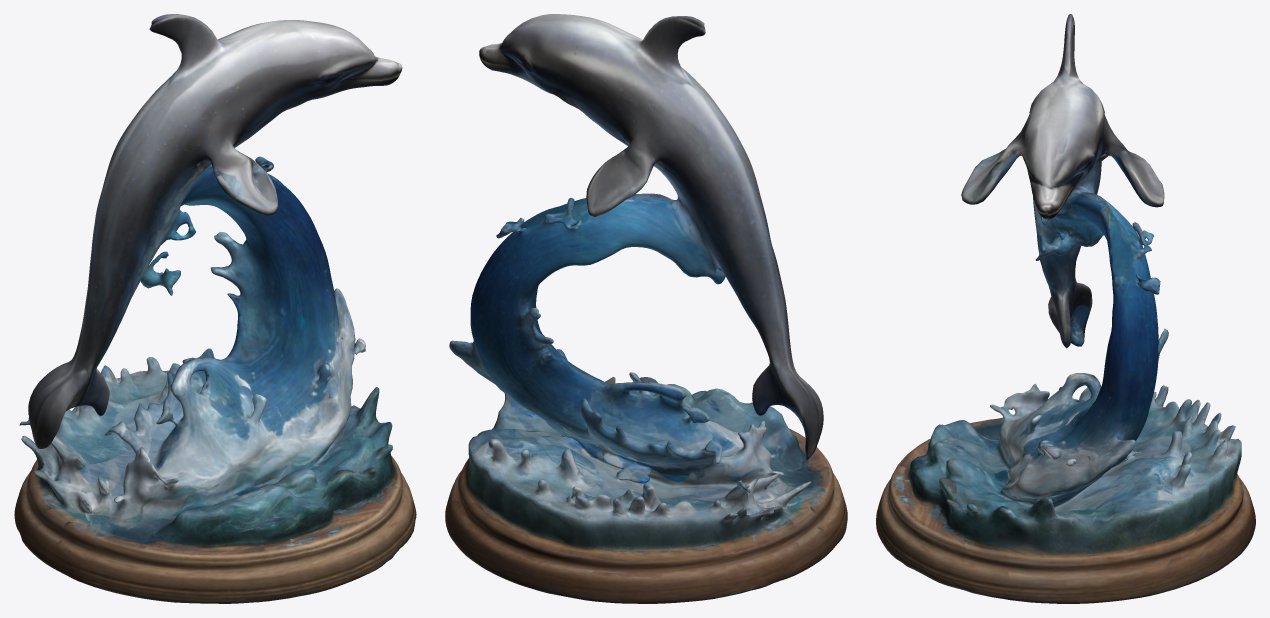
Rendered from A_sleek_gray_and_whit_1114052125_refine.fbx.
3 views of the same model, side by side, from view 1: azimuth 30°, elevation 25°; view 2: azimuth 150°, elevation 25°; view 3: azimuth 270°, elevation 25° (orthographic). The views are drawn at different scales.
Visible parts, largest first — view 1: Mesh1_Mesh1.007; view 2: Mesh1_Mesh1.007; view 3: Mesh1_Mesh1.007.
Boxes of the visible parts, box(x1,y1,x2,y2) form: Mesh1_Mesh1.007: box(14, 14, 416, 603); Mesh1_Mesh1.007: box(445, 14, 847, 603); Mesh1_Mesh1.007: box(876, 14, 1255, 603).
Bounding box in the file's own units: 143 × 200 × 141.
1 material, 1 textured.
